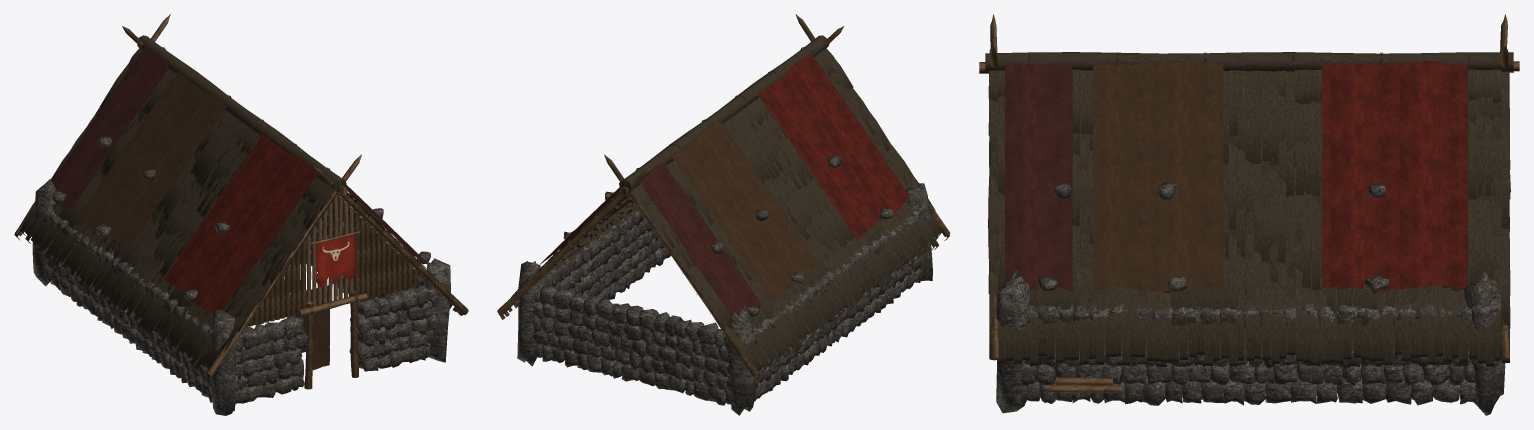
The model's file is SM_Bld_Stone_Hall.gltf.
3 views of the same model, side by side, from view 1: azimuth 30°, elevation 25°; view 2: azimuth 150°, elevation 25°; view 3: azimuth 270°, elevation 25° (orthographic). The views are drawn at different scales.
Visible parts, largest first — view 1: SM_Bld_Stone_Hall; view 2: SM_Bld_Stone_Hall; view 3: SM_Bld_Stone_Hall.
Boxes of the visible parts, x1,y1,x2,y2 form: SM_Bld_Stone_Hall: (14, 14, 468, 415); SM_Bld_Stone_Hall: (497, 14, 950, 415); SM_Bld_Stone_Hall: (979, 14, 1519, 415).
Bounding box in the file's own units: 9.93 × 8.47 × 13.2.
Materials: 10 (9 with a texture image).
